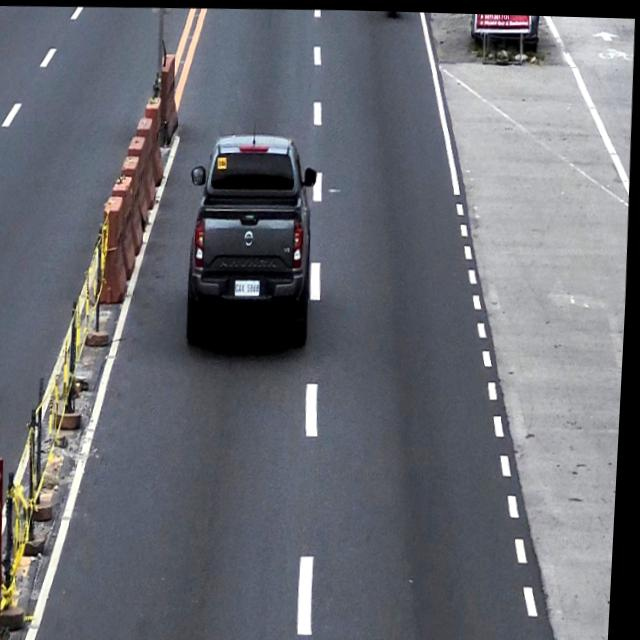Car: (183, 129, 323, 351)
License-Plate: (237, 279, 263, 295)
